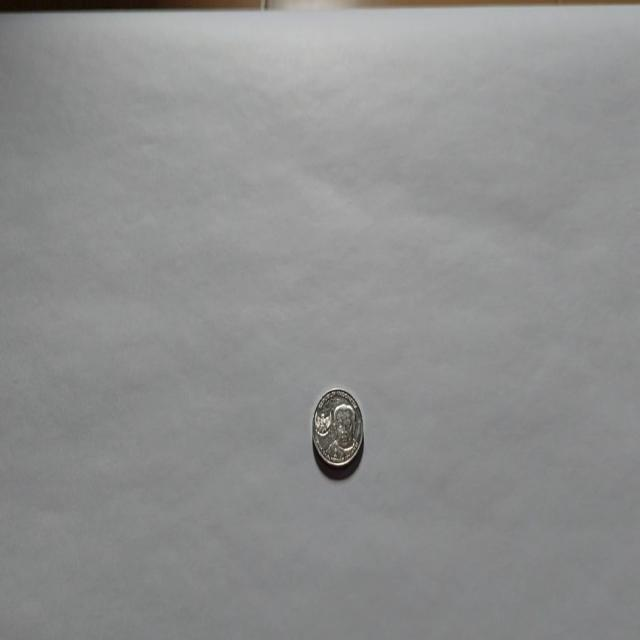seratus rupiah: (312, 387, 364, 470)
